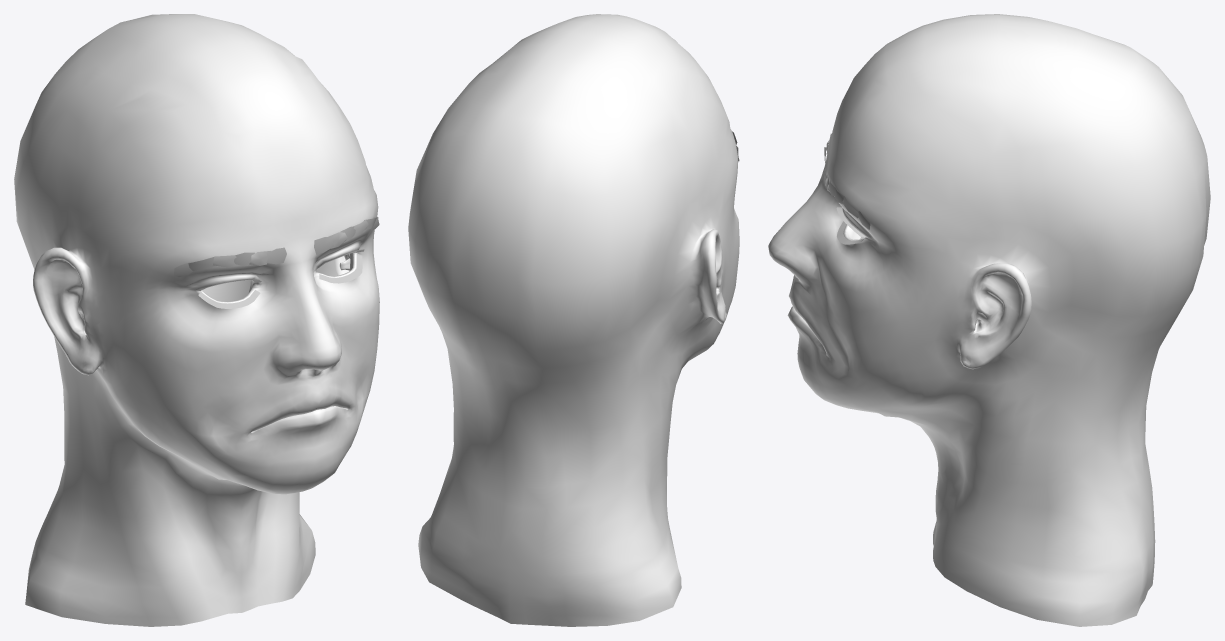
The model's file is mouthFrown.obj.
3 views of the same model, side by side, from view 1: azimuth 30°, elevation 25°; view 2: azimuth 150°, elevation 25°; view 3: azimuth 270°, elevation 25° (orthographic). The views are drawn at different scales.
Parts seen in each view (by area): view 1: FaceMesh_Plane.003; view 2: FaceMesh_Plane.003; view 3: FaceMesh_Plane.003.
Boxes of the visible parts, x1,y1,x2,y2 form: FaceMesh_Plane.003: [14, 14, 379, 626]; FaceMesh_Plane.003: [408, 14, 739, 626]; FaceMesh_Plane.003: [768, 14, 1210, 626].
Size of the model in its own units: 1.54 by 2.71 by 1.94.
5 materials, 1 textured.
